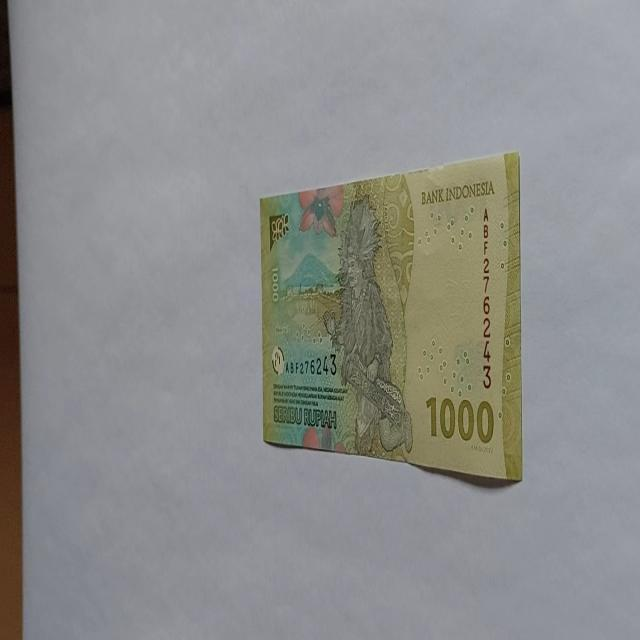seribu rupiah kertas: (259, 150, 523, 484)
